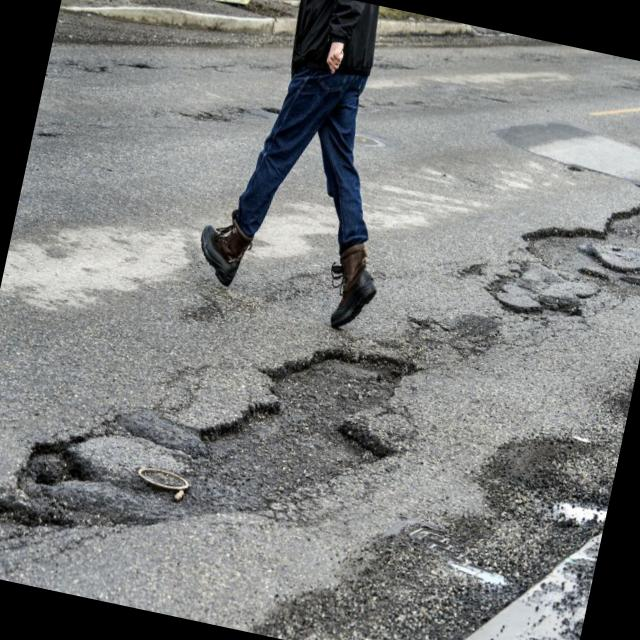Potholes: (0, 246, 430, 593), (274, 349, 612, 640), (441, 157, 640, 389)
